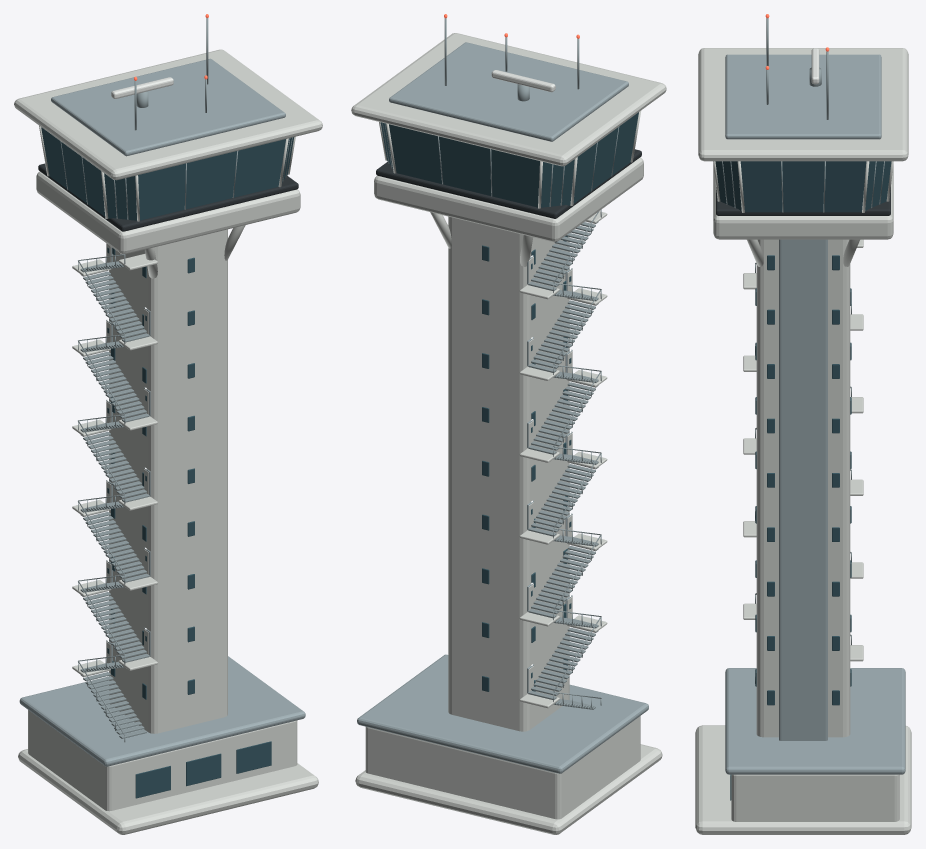
Rendered from tower.glb.
3 views of the same model, side by side, from view 1: azimuth 30°, elevation 25°; view 2: azimuth 150°, elevation 25°; view 3: azimuth 270°, elevation 25° (orthographic). The views are drawn at different scales.
Parts seen in each view (by area): view 1: Tower.Architecture, Tower.Roof, Tower.Metal, Tower.Glass, Tower.Engine; view 2: Tower.Architecture, Tower.Roof, Tower.Metal, Tower.Glass, Tower.Engine, Radar.Airframe; view 3: Tower.Architecture, Tower.Roof, Tower.Glass, Tower.Metal, Tower.Engine.
Part boxes in pixels (bbox=[...]): Tower.Architecture: bbox=[14, 49, 322, 834]; Tower.Roof: bbox=[19, 58, 305, 766]; Tower.Metal: bbox=[60, 18, 292, 742]; Tower.Glass: bbox=[41, 127, 294, 798]; Tower.Engine: bbox=[38, 163, 298, 231]; Tower.Architecture: bbox=[351, 33, 666, 834]; Tower.Roof: bbox=[357, 42, 648, 773]; Tower.Metal: bbox=[382, 18, 619, 709]; Tower.Glass: bbox=[380, 112, 638, 691]; Tower.Engine: bbox=[376, 149, 641, 218]; Radar.Airframe: bbox=[491, 70, 555, 92]; Tower.Architecture: bbox=[695, 48, 911, 834]; Tower.Roof: bbox=[725, 54, 905, 774]; Tower.Glass: bbox=[715, 161, 891, 800]; Tower.Metal: bbox=[722, 18, 884, 683]; Tower.Engine: bbox=[716, 187, 890, 215].
Bounding box in the file's own units: 21 × 70.29 × 18.
